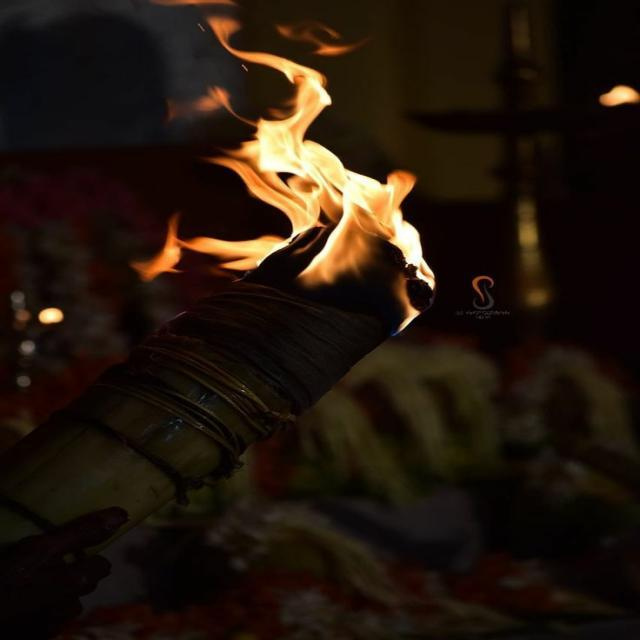Fire: (104, 0, 484, 343)
